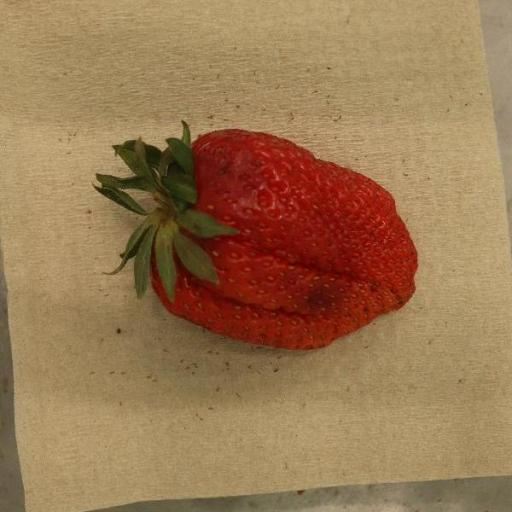Strawberry: (93, 123, 419, 351)
